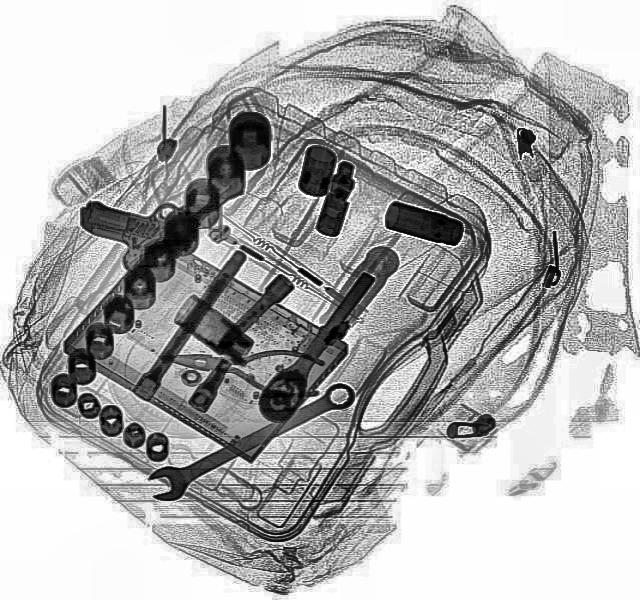Gun: (69, 124, 251, 279)
Pliers: (154, 331, 323, 399)
Wrench: (136, 376, 362, 508)
